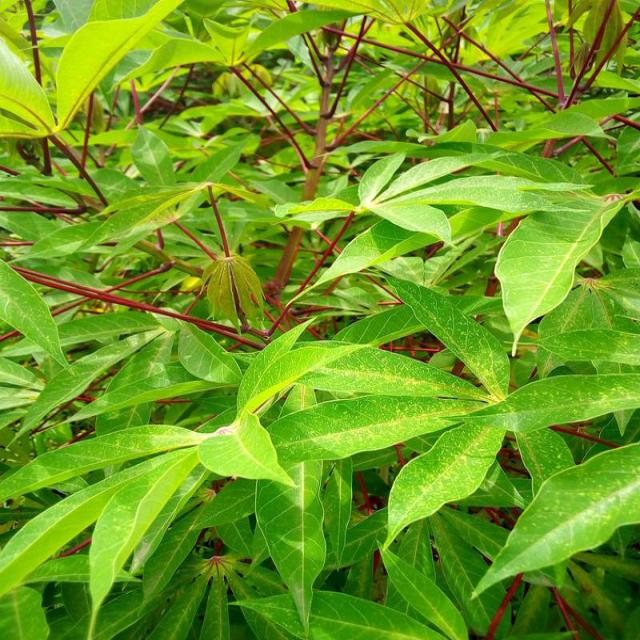cassava leaf: (0, 1, 638, 638), (469, 439, 638, 598)
